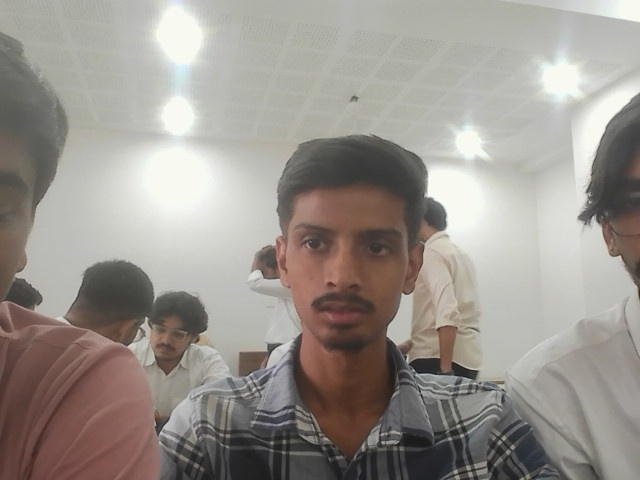light_on: (151, 87, 203, 133), (446, 117, 490, 158), (545, 68, 587, 103), (615, 5, 636, 25)
person: (0, 39, 157, 477), (505, 89, 639, 478), (130, 290, 231, 440), (66, 258, 158, 346)
